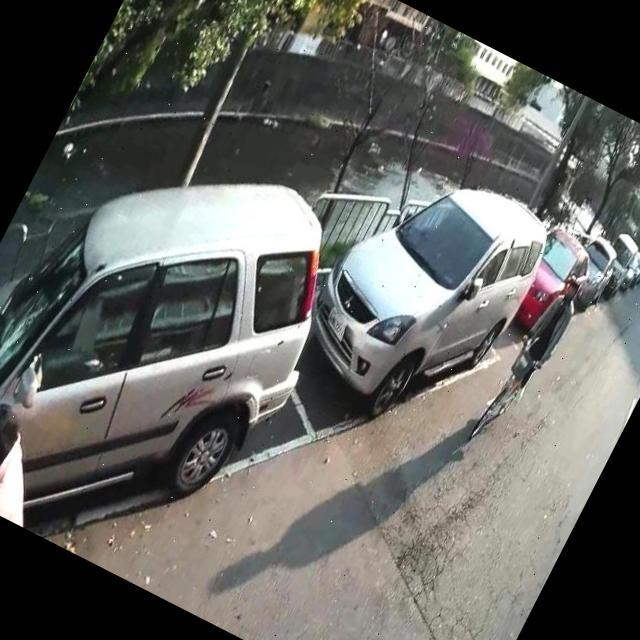person: (479, 262, 592, 426), (0, 375, 89, 533)
